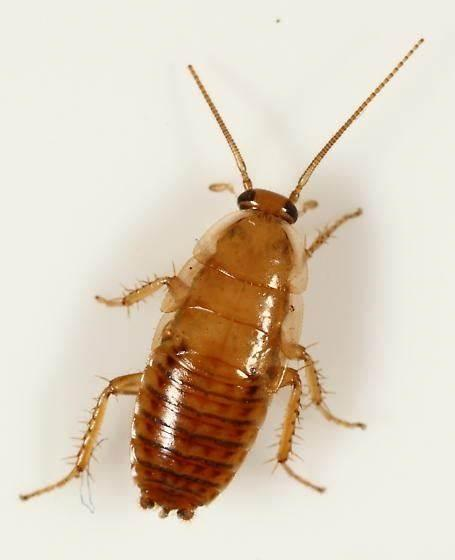cockroach: (114, 161, 326, 524)
